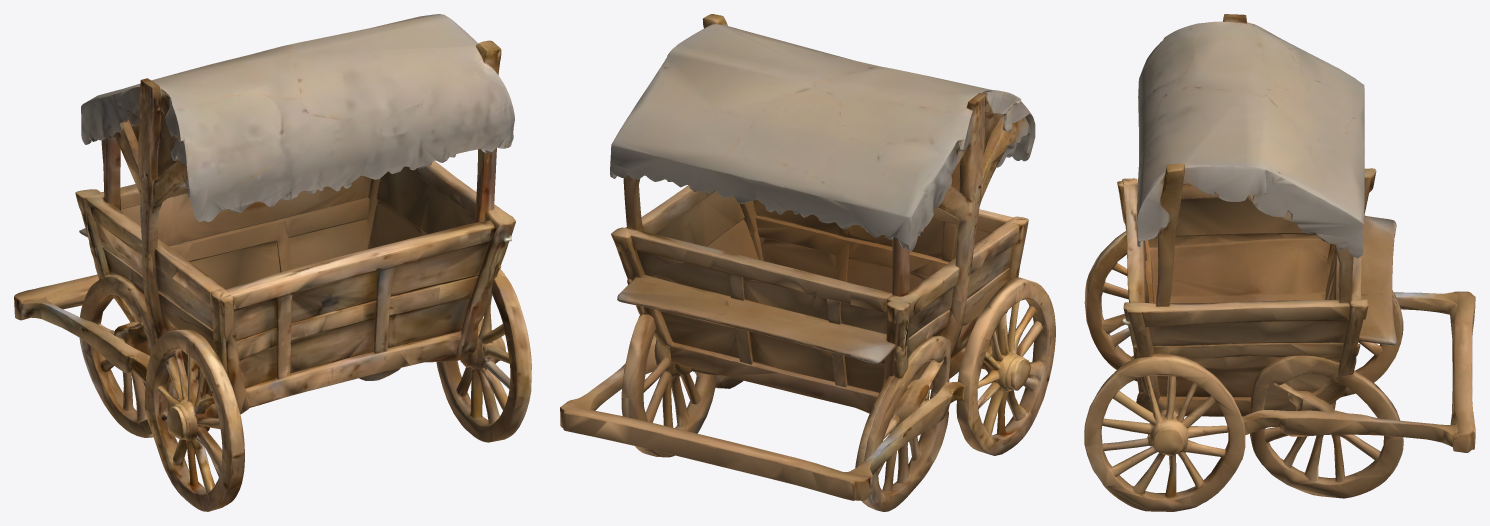
The model's file is testcart01.glb.
3 views of the same model, side by side, from view 1: azimuth 30°, elevation 25°; view 2: azimuth 150°, elevation 25°; view 3: azimuth 270°, elevation 25° (orthographic). The views are drawn at different scales.
Parts seen in each view (by area): view 1: model; view 2: model; view 3: model.
Boxes of the visible parts, left/top/right/bottom form: model: left=14, top=14, right=531, bottom=511; model: left=560, top=14, right=1055, bottom=511; model: left=1084, top=14, right=1475, bottom=511.
Size of the model in its own units: 1.64 by 1.9 by 1.85.
1 material, 1 textured.
